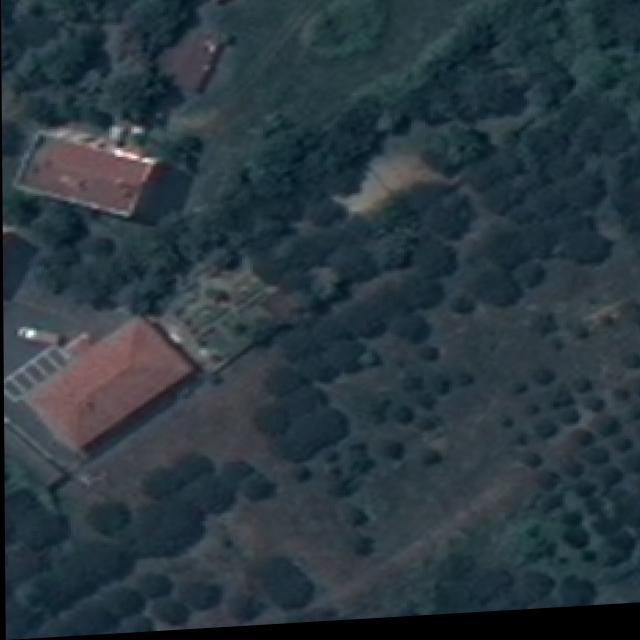Batiment: (25, 321, 194, 448), (15, 129, 190, 227), (157, 33, 226, 96), (214, 0, 233, 7)
